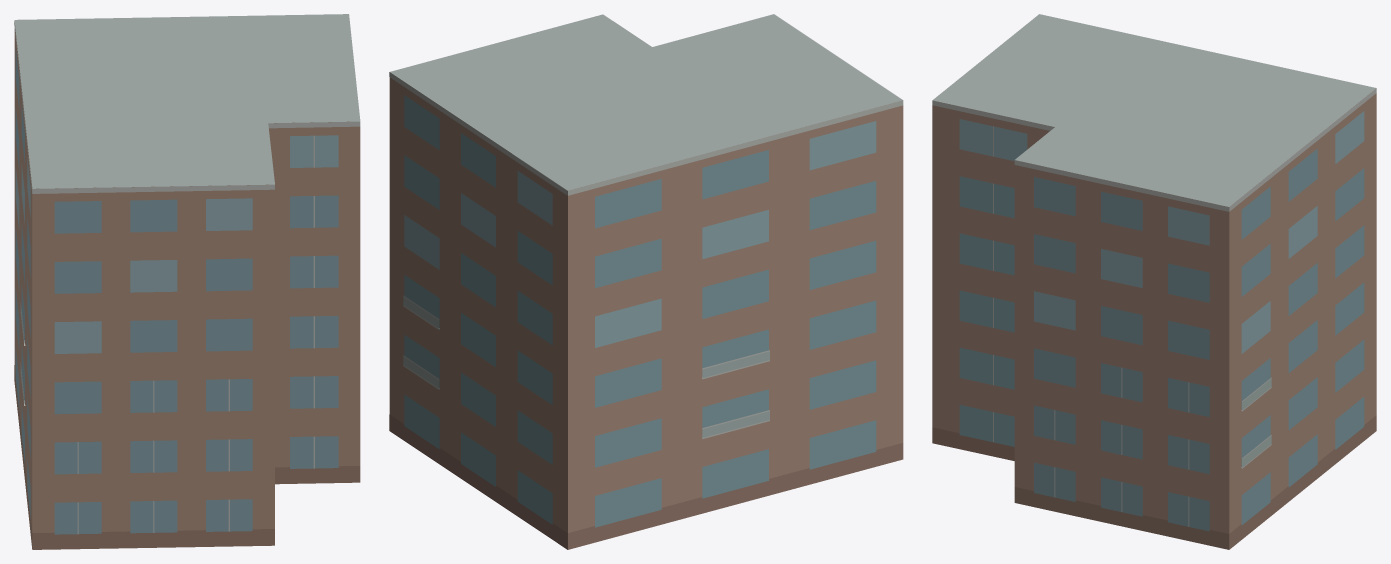
File: survey-upis-32535131.glb
The picture shows the model from 3 angles, left to right: view 1: azimuth 30°, elevation 25°; view 2: azimuth 150°, elevation 25°; view 3: azimuth 270°, elevation 25°; orthographic projection. The views are drawn at different scales.
Visible parts, largest first — view 1: survey-upis-32535131.tmp; view 2: survey-upis-32535131.tmp; view 3: survey-upis-32535131.tmp.
Boxes of the visible parts, x1,y1,x2,y2 form: survey-upis-32535131.tmp: (14,14,360,549); survey-upis-32535131.tmp: (389,14,903,549); survey-upis-32535131.tmp: (932,14,1376,549).
Size of the model in its own units: 20.9 by 17.3 by 20.33.
